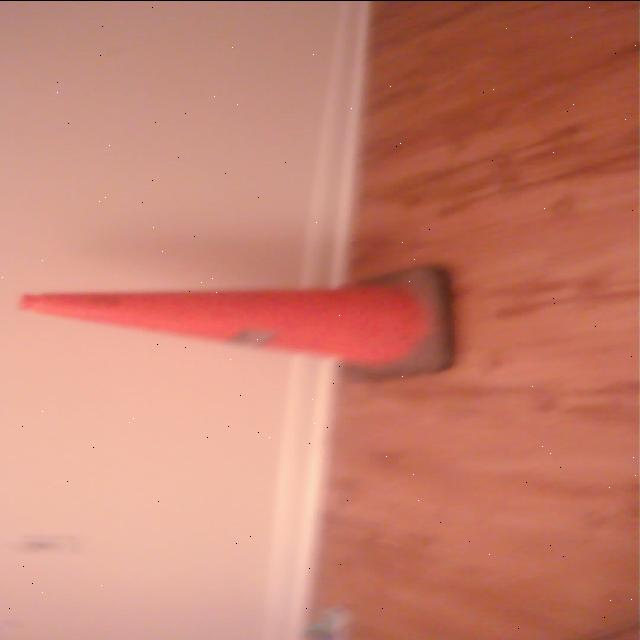traffic cone: (12, 261, 464, 387)
